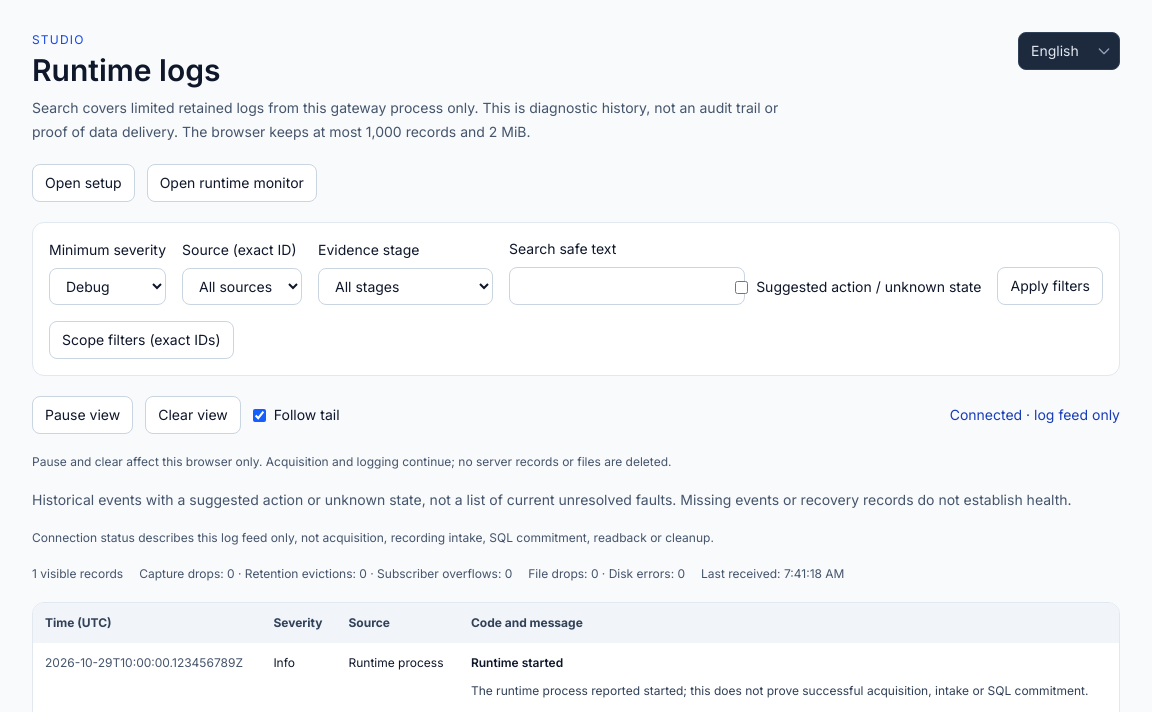
Test: closed legacy and domain compatibility on the actual runtime log page › pauses and clears only browser rows, then resumes the exact unrounded progress without snapshot or mutation
expect the message shows "Connected": met, box 950,406 -> 1120,423
Click the button "Pause view": click(83, 415) 32,396 -> 133,434
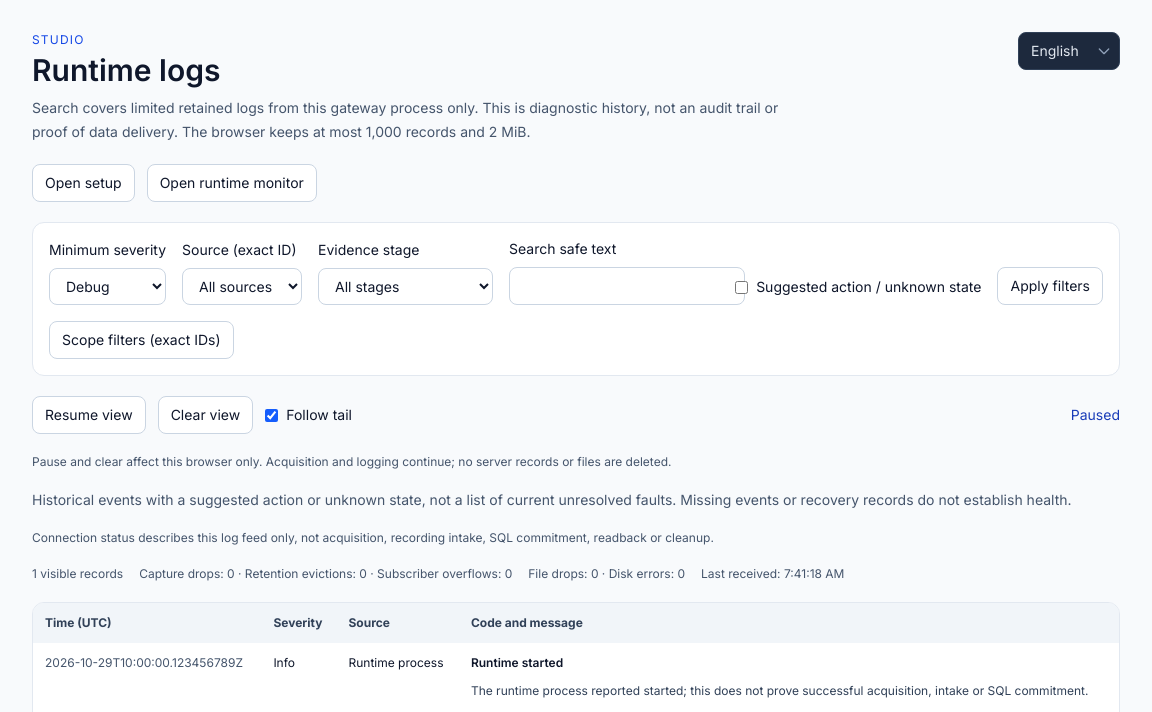
Click the button "Clear view": click(205, 415) 158,396 -> 253,434
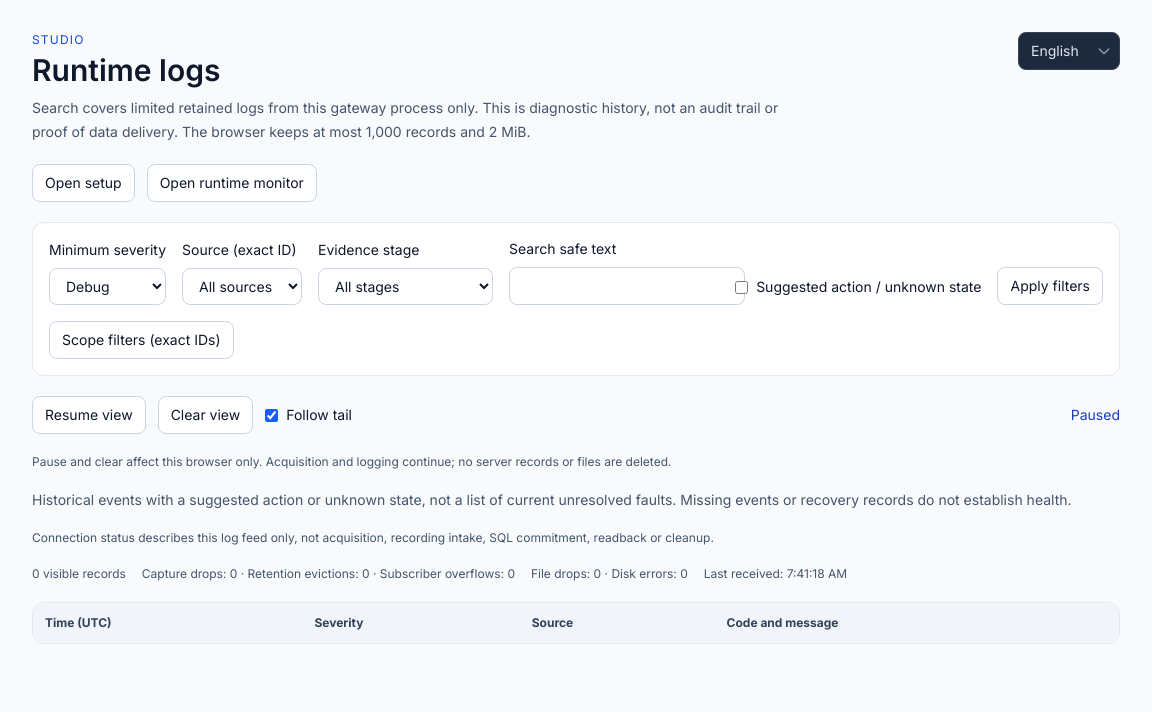
expect the text "Pause and clear affect this browser only" is shown: met, box 32,454 -> 672,469
Click the button "Resume view": click(89, 415) 32,396 -> 146,434
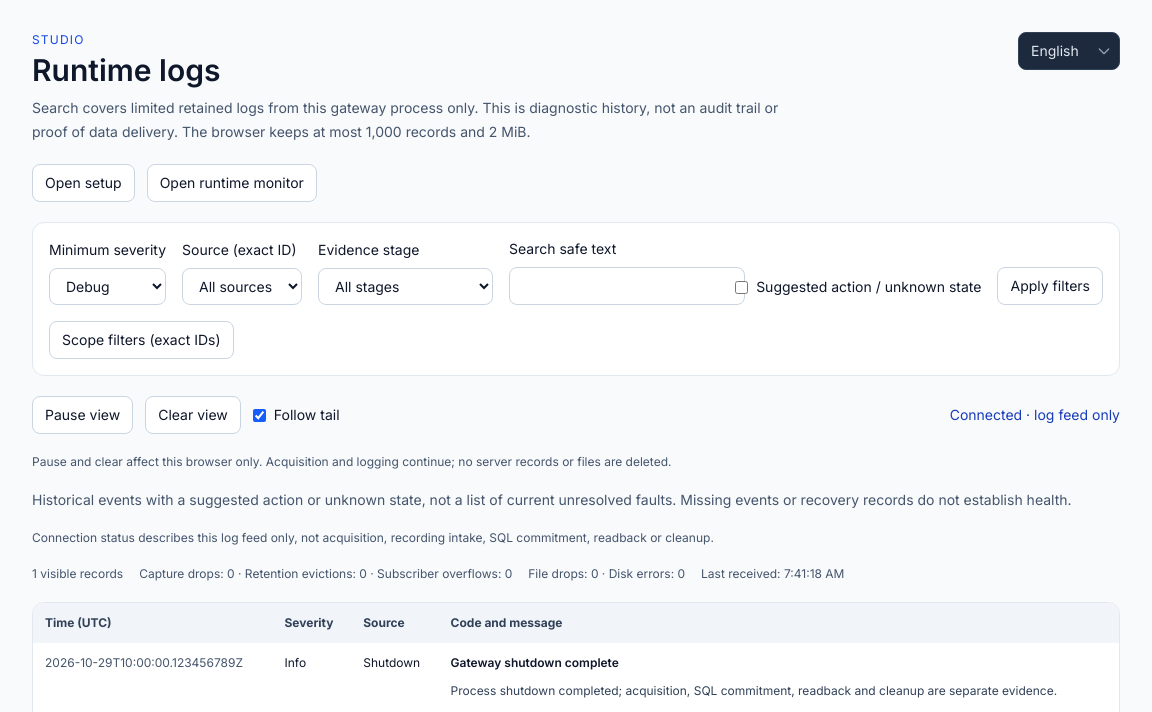
expect the message shows "Connected": met, box 950,406 -> 1120,423
